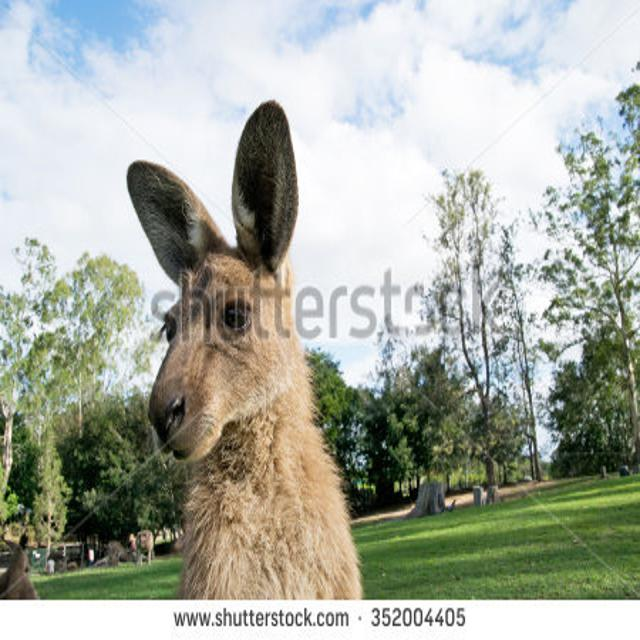kangaroo: (101, 100, 364, 598)
